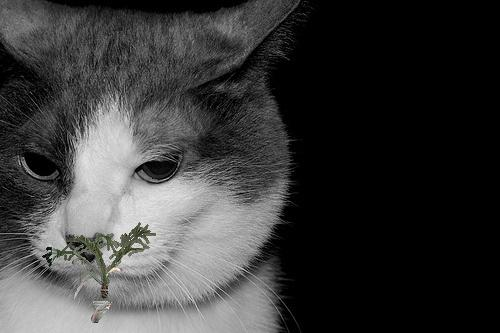tampered: (43, 223, 156, 323)
